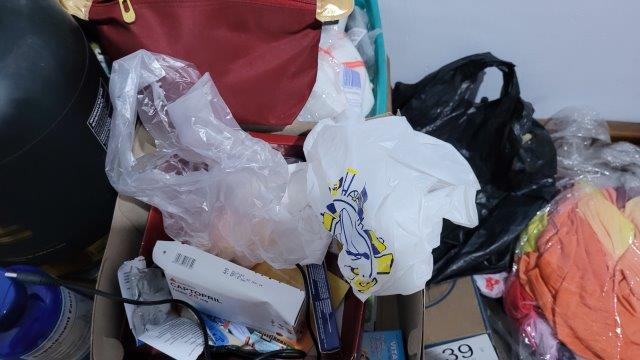plastik: (106, 49, 302, 264), (307, 114, 479, 298)
